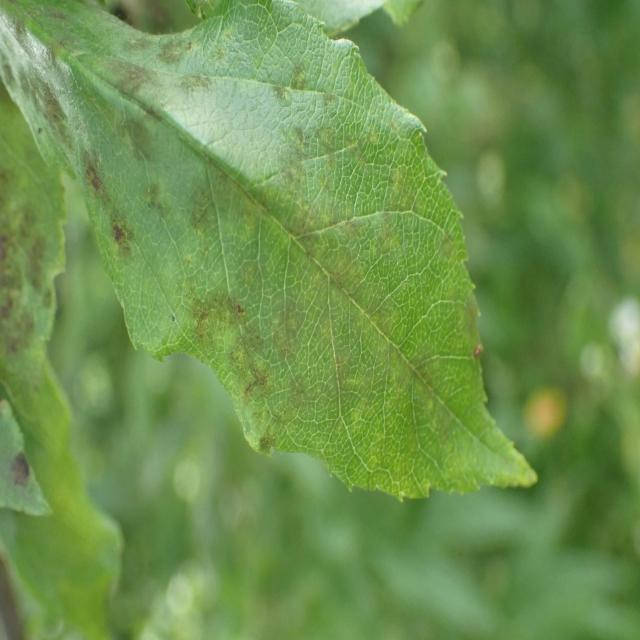scab: (0, 0, 508, 483)
